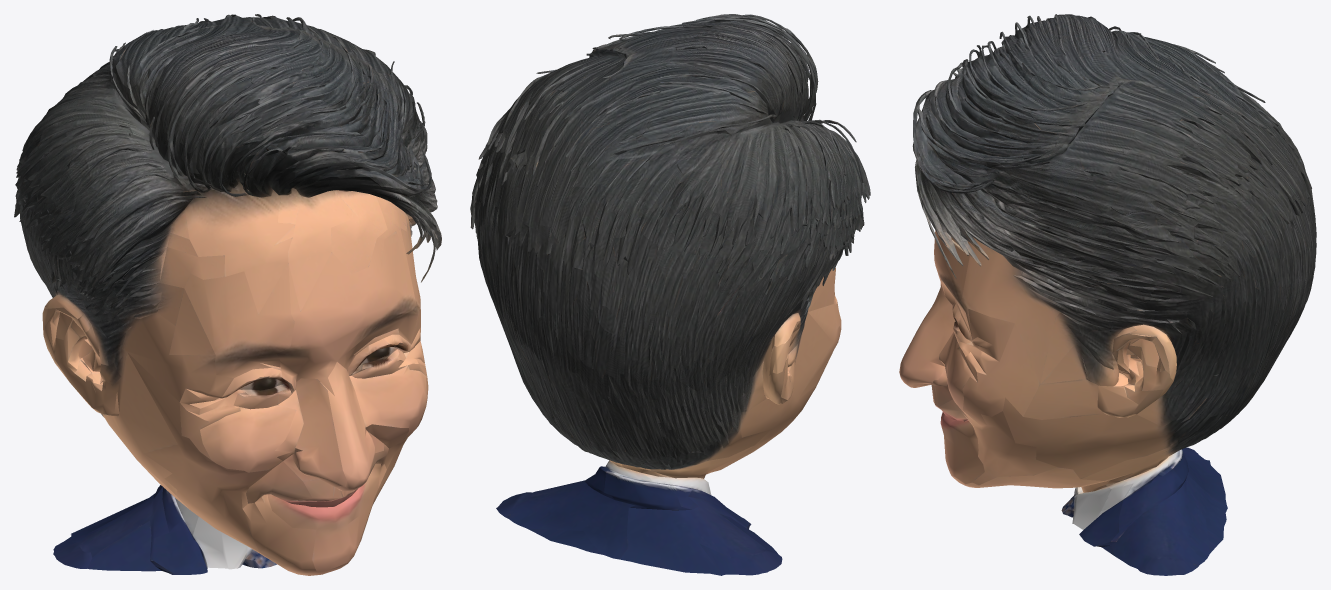
File: 교장선생님-머리.glb
3 renders of one model, left to right at view 1: azimuth 30°, elevation 25°; view 2: azimuth 150°, elevation 25°; view 3: azimuth 270°, elevation 25°, orthographic. The views are drawn at different scales.
Visible parts, largest first — view 1: output_unwrapped; view 2: output_unwrapped; view 3: output_unwrapped.
Part boxes in pixels (<box>): output_unwrapped: <box>14,14,441,575</box>; output_unwrapped: <box>470,14,870,575</box>; output_unwrapped: <box>899,14,1316,575</box>.
Bounding box in the file's own units: 0.2763 × 0.3724 × 0.3016.
Materials: 1 (1 with a texture image).
